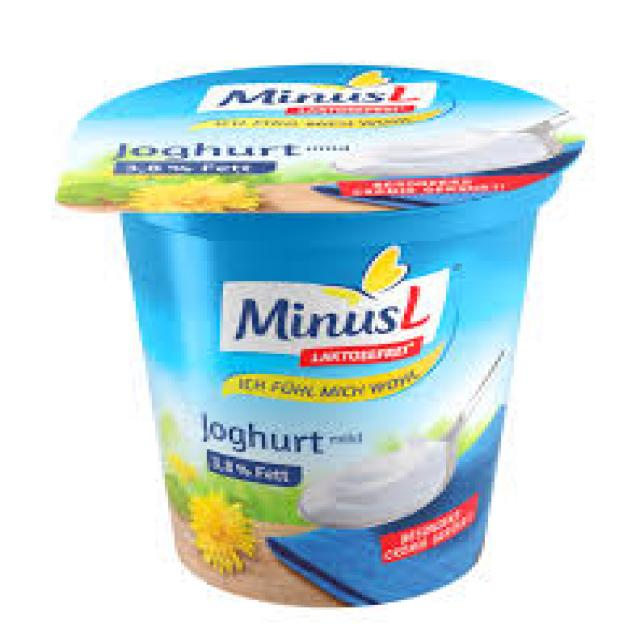plastic: (55, 63, 585, 602)
